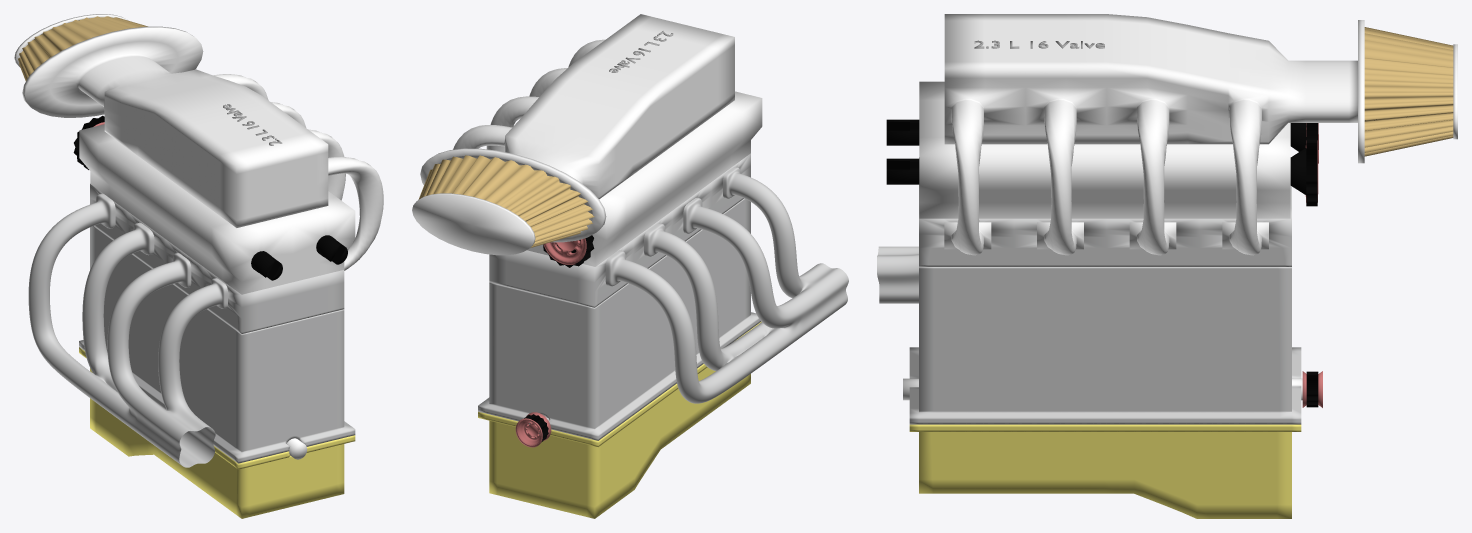
The model's file is piston_gas_engine(full)_-_complete 1.fbx.
The picture shows the model from 3 angles, left to right: view 1: azimuth 30°, elevation 25°; view 2: azimuth 150°, elevation 25°; view 3: azimuth 270°, elevation 25°; orthographic projection. The views are drawn at different scales.
Parts seen in each view (by area): view 1: intake, block, exhaust, valve cover, oil pan, head, air filter, cam int, cam exh; view 2: intake, block, exhaust, oil pan, valve cover, air filter, head, cam pulley int, crank pulley; view 3: intake, block, oil pan, valve cover, head, air filter, exhaust, cam int, cam exh, cam gears exh.
Part boxes in pixels (x1,y1,x2,y2): intake: (14, 14, 383, 270); block: (79, 226, 355, 463); exhaust: (28, 193, 227, 467); valve cover: (79, 124, 355, 294); oil pan: (79, 347, 355, 518); head: (90, 184, 344, 333); air filter: (18, 16, 147, 80); cam int: (316, 235, 347, 264); cam exh: (251, 251, 282, 280); intake: (412, 14, 734, 255); block: (478, 198, 760, 440); exhaust: (605, 167, 848, 403); oil pan: (478, 321, 761, 518); valve cover: (527, 91, 762, 266); air filter: (418, 155, 594, 247); head: (489, 153, 750, 307); cam pulley int: (543, 238, 586, 264); crank pulley: (515, 412, 551, 447); intake: (944, 14, 1457, 255); block: (909, 267, 1301, 424); oil pan: (909, 424, 1301, 518); valve cover: (919, 81, 1290, 218); head: (919, 157, 1291, 266); air filter: (1364, 27, 1453, 156); exhaust: (877, 246, 918, 303); cam int: (886, 148, 1306, 194); cam exh: (886, 119, 1306, 151); cam gears exh: (1306, 137, 1317, 206).
Bounding box in the file's own units: 1469 × 2133 × 2508.
